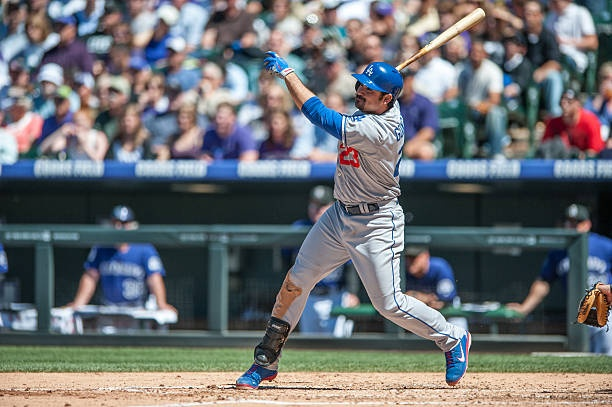bita: (392, 6, 487, 71)
